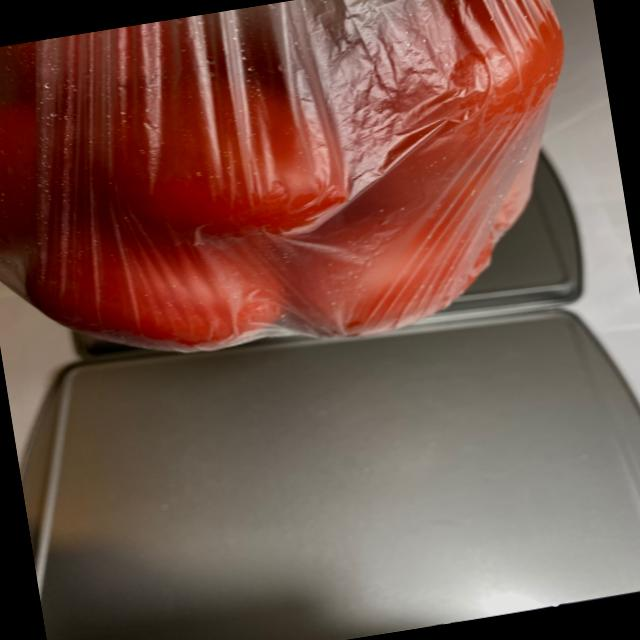tomato: (0, 0, 601, 389)
